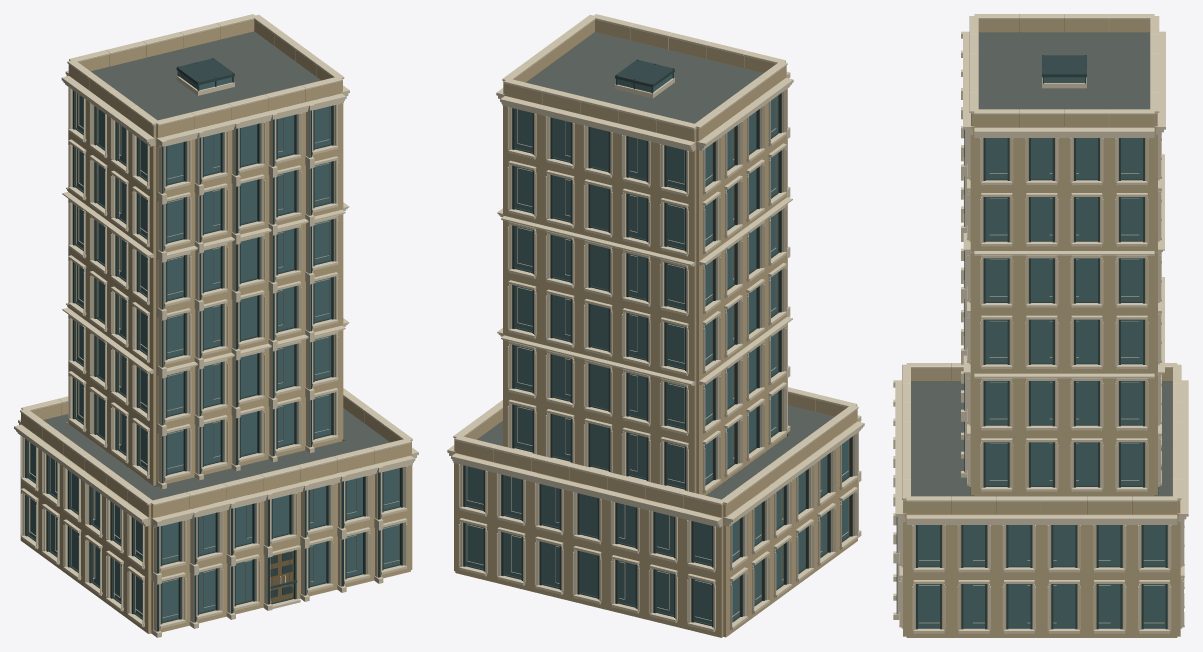
The model's file is deco-tower.glb.
The picture shows the model from 3 angles, left to right: view 1: azimuth 30°, elevation 25°; view 2: azimuth 150°, elevation 25°; view 3: azimuth 270°, elevation 25°; orthographic projection. The views are drawn at different scales.
Parts seen in each view (by area): view 1: Roof tower.003, Roof main.027, Foundation.046, collection/roof/frame.015, main/north/0/5000/frame.019, tower/north/3/9000/glass.002, tower/north/4/9000/glass.002, tower/north/5/9000/glass.002, tower/north/6/9000/glass.002, tower/north/2/9000/glass.003, tower/north/4/1000/wall.002, tower/north/2/1000/wall.003 (+62 smaller); view 2: Roof tower.003, Foundation.046, Roof main.027, collection/roof/frame.015, main/south/0/714/wall.006, tower/south/6/1000/wall.002, tower/south/4/1000/wall.002, main/south/0/5000/wall.019, tower/south/4/5000/wall.002, tower/south/6/7000/wall.002, tower/south/6/5000/wall.002, main/south/0/6429/wall.006 (+111 smaller); view 3: Roof tower.003, Roof main.027, tower/east/4/1250/wall.001, tower/east/4/6250/wall.001, tower/east/6/1250/wall.001, tower/east/6/6250/wall.001, main/east/0/9167/wall.004, main/east/0/7500/wall.004, tower/east/4/8750/wall.001, tower/east/6/8750/wall.001, tower/east/2/1250/wall.002, tower/east/2/6250/wall.002 (+125 smaller).
Boxes of the visible parts, x1=… form: Roof tower.003: x1=91, y1=31, x2=320, y2=137; Roof main.027: x1=43, y1=408, x2=389, y2=517; Foundation.046: x1=29, y1=94, x2=399, y2=617; collection/roof/frame.015: x1=176, y1=58, x2=234, y2=91; main/north/0/5000/frame.019: x1=270, y1=550, x2=297, y2=604; tower/north/3/9000/glass.002: x1=314, y1=335, x2=331, y2=379; tower/north/4/9000/glass.002: x1=314, y1=277, x2=331, y2=321; tower/north/5/9000/glass.002: x1=314, y1=219, x2=331, y2=263; tower/north/6/9000/glass.002: x1=314, y1=162, x2=331, y2=205; tower/north/2/9000/glass.003: x1=314, y1=393, x2=331, y2=437; tower/north/4/1000/wall.002: x1=156, y1=303, x2=194, y2=369; tower/north/2/1000/wall.003: x1=156, y1=419, x2=194, y2=485; Roof tower.003: x1=526, y1=32, x2=763, y2=141; Foundation.046: x1=466, y1=97, x2=848, y2=620; Roof main.027: x1=477, y1=405, x2=834, y2=499; collection/roof/frame.015: x1=615, y1=59, x2=674, y2=93; main/south/0/714/wall.006: x1=683, y1=569, x2=723, y2=637; tower/south/6/1000/wall.002: x1=656, y1=193, x2=696, y2=261; tower/south/4/1000/wall.002: x1=656, y1=313, x2=696, y2=381; main/south/0/5000/wall.019: x1=569, y1=541, x2=607, y2=609; tower/south/4/5000/wall.002: x1=580, y1=294, x2=618, y2=362; tower/south/6/7000/wall.002: x1=542, y1=165, x2=580, y2=233; tower/south/6/5000/wall.002: x1=580, y1=174, x2=618, y2=243; main/south/0/6429/wall.006: x1=531, y1=532, x2=569, y2=600; Roof tower.003: x1=978, y1=32, x2=1149, y2=109; Roof main.027: x1=911, y1=381, x2=1172, y2=496; tower/east/4/1250/wall.001: x1=1109, y1=312, x2=1154, y2=373; tower/east/4/6250/wall.001: x1=1019, y1=312, x2=1064, y2=373; tower/east/6/1250/wall.001: x1=1109, y1=189, x2=1154, y2=250; tower/east/6/6250/wall.001: x1=1019, y1=189, x2=1064, y2=250; main/east/0/9167/wall.004: x1=906, y1=576, x2=951, y2=637; main/east/0/7500/wall.004: x1=951, y1=576, x2=996, y2=637; tower/east/4/8750/wall.001: x1=974, y1=312, x2=1019, y2=373; tower/east/6/8750/wall.001: x1=974, y1=189, x2=1019, y2=250; tower/east/2/1250/wall.002: x1=1109, y1=435, x2=1154, y2=495; tower/east/2/6250/wall.002: x1=1019, y1=435, x2=1064, y2=495.
Size of the model in its own units: 15 by 24.87 by 13.08.
